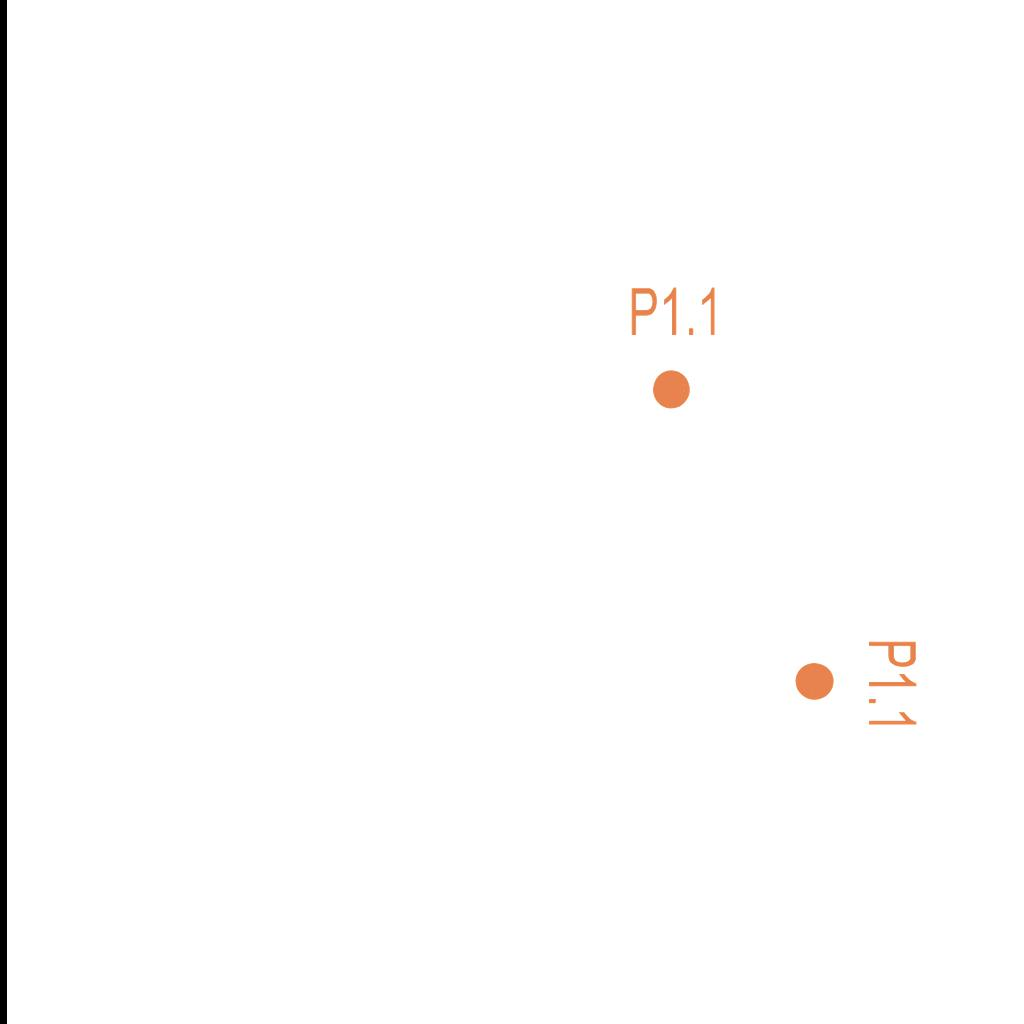Downlight_LED_Einbauleuchten_Flur: (628, 284, 721, 412), (792, 638, 920, 731)
